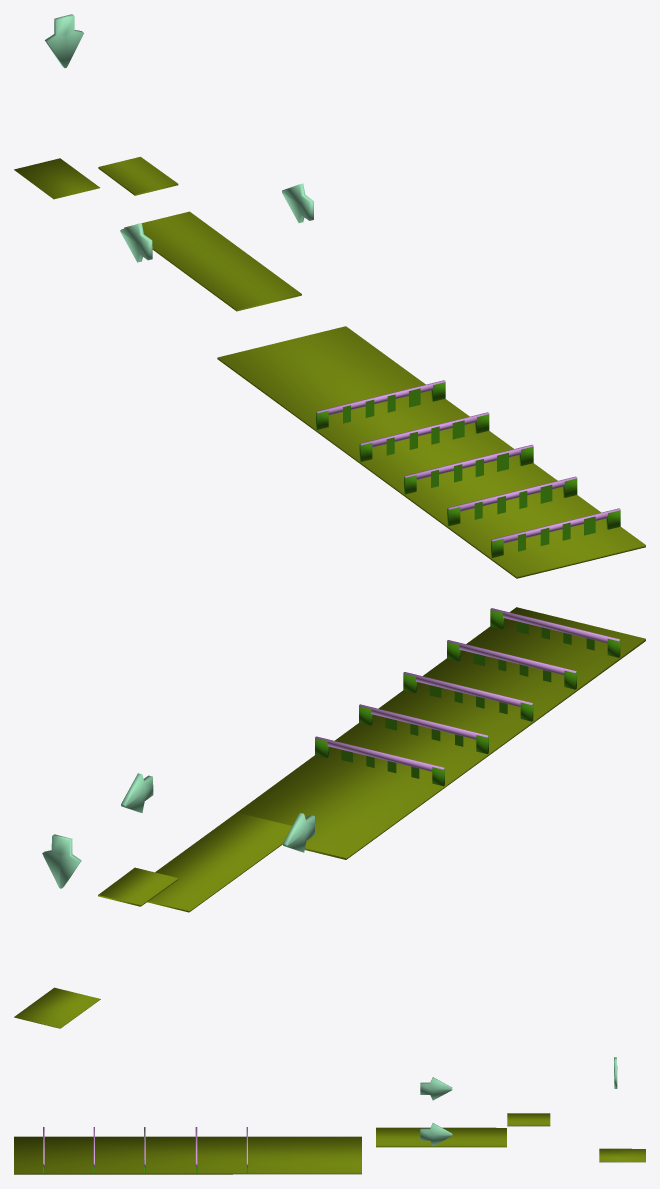
Rendered from map.obj.
3 views of the same model, one above another, from view 1: azimuth 30°, elevation 25°; view 2: azimuth 150°, elevation 25°; view 3: azimuth 270°, elevation 25° (orthographic). The views are drawn at different scales.
Parts seen in each view (by area): view 1: Box001, Box012, Box004, Box008, Box002, Box010, Box006; view 2: Box001, Box012, Box002, Box006, Box004, Box010, Box008, Box009, Box011, Box005, Box003, Box007; view 3: Box001, Box012.
Part boxes in pixels (<box>): Box001: <box>14,156,645,578</box>; Box012: <box>45,14,313,262</box>; Box004: <box>447,478,577,525</box>; Box008: <box>359,414,489,461</box>; Box002: <box>491,510,620,557</box>; Box010: <box>316,382,445,429</box>; Box006: <box>404,446,533,494</box>; Box001: <box>14,607,645,1028</box>; Box012: <box>42,773,314,888</box>; Box002: <box>490,610,620,657</box>; Box006: <box>403,674,533,721</box>; Box004: <box>447,642,576,689</box>; Box010: <box>315,738,444,786</box>; Box008: <box>359,706,488,753</box>; Box009: <box>359,704,488,739</box>; Box011: <box>315,736,444,771</box>; Box005: <box>447,640,576,674</box>; Box003: <box>490,608,619,643</box>; Box007: <box>403,672,532,706</box>; Box001: <box>14,1113,645,1174</box>; Box012: <box>420,1057,617,1146</box>.
Bounding box in the file's own units: 154 × 148 × 872.
